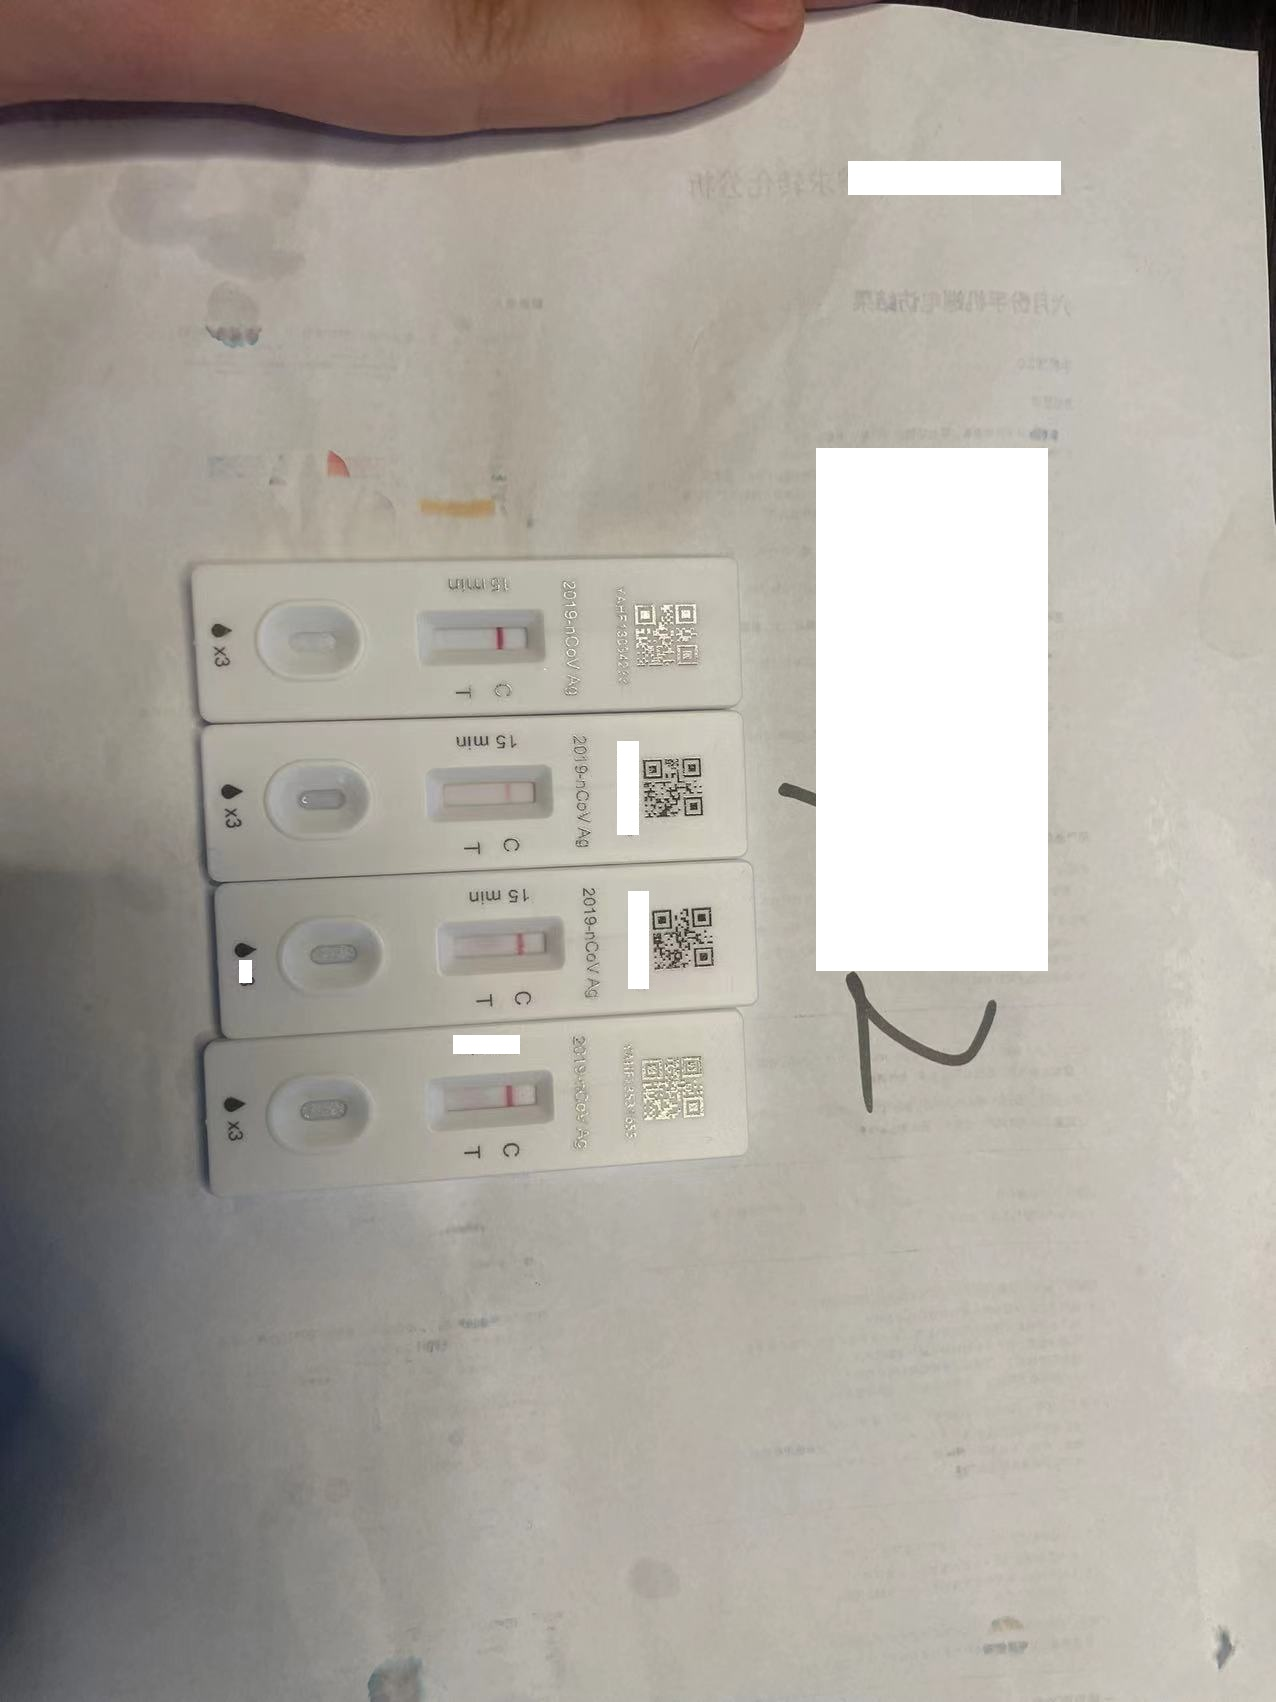negative: (420, 1073, 554, 1132), (416, 610, 541, 665), (424, 769, 547, 822), (432, 929, 562, 972)
